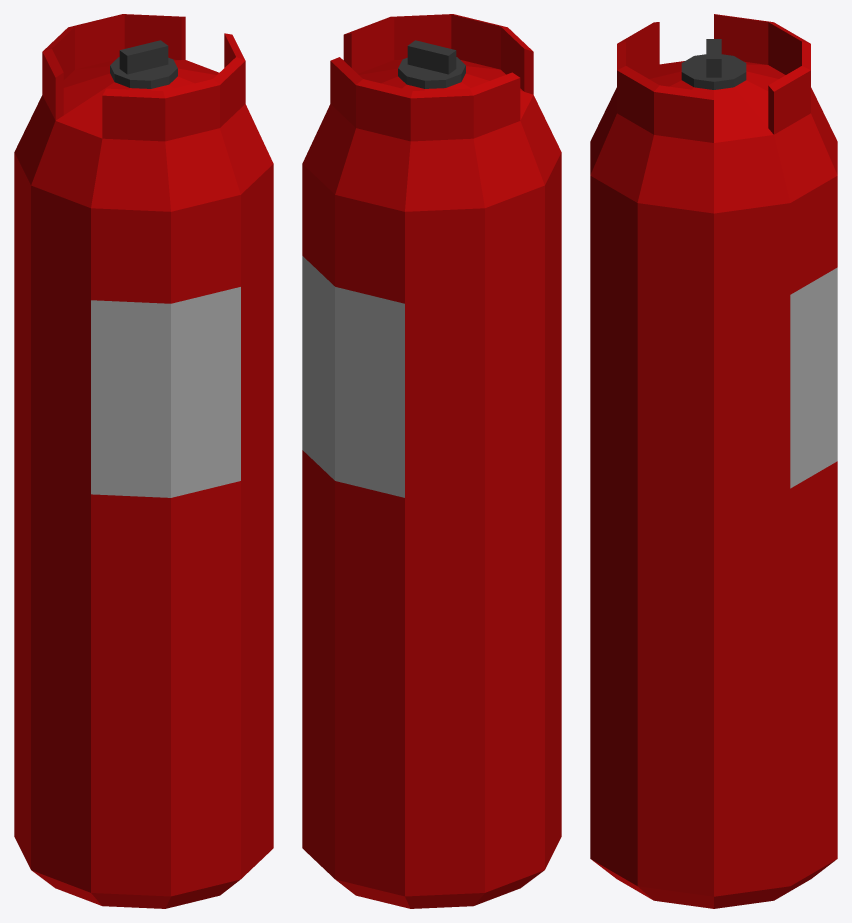
Rendered from model_canister_01.fbx.
3 renders of one model, left to right at view 1: azimuth 30°, elevation 25°; view 2: azimuth 150°, elevation 25°; view 3: azimuth 270°, elevation 25°, orthographic.
Visible parts, largest first — view 1: model_canister_01; view 2: model_canister_01; view 3: model_canister_01.
Boxes of the visible parts, x1,y1,x2,y2 form: model_canister_01: (14,14,273,908); model_canister_01: (302,14,561,908); model_canister_01: (590,14,837,908).
Size of the model in its own units: 34.84 by 121 by 33.13.
Materials: 1 (1 with a texture image).
